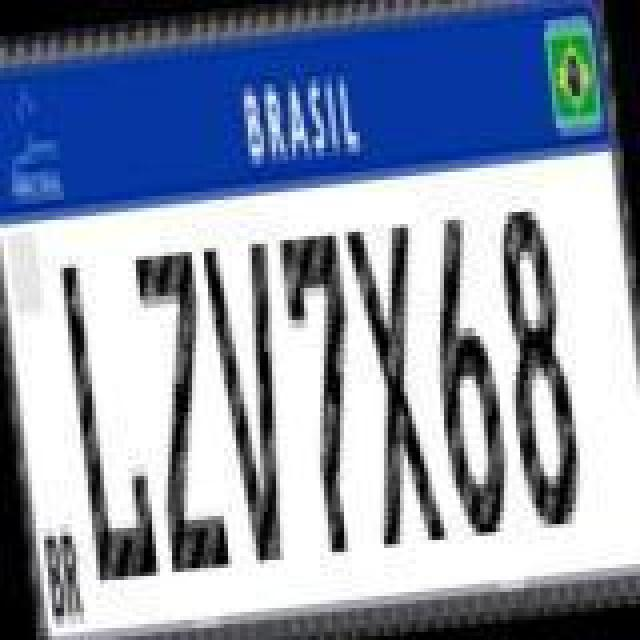6: (414, 210, 514, 542)
7: (278, 226, 378, 558)
8: (486, 202, 586, 534)
L: (56, 252, 160, 588)
V: (202, 234, 310, 566)
X: (344, 218, 448, 550)
Z: (134, 240, 234, 576)
